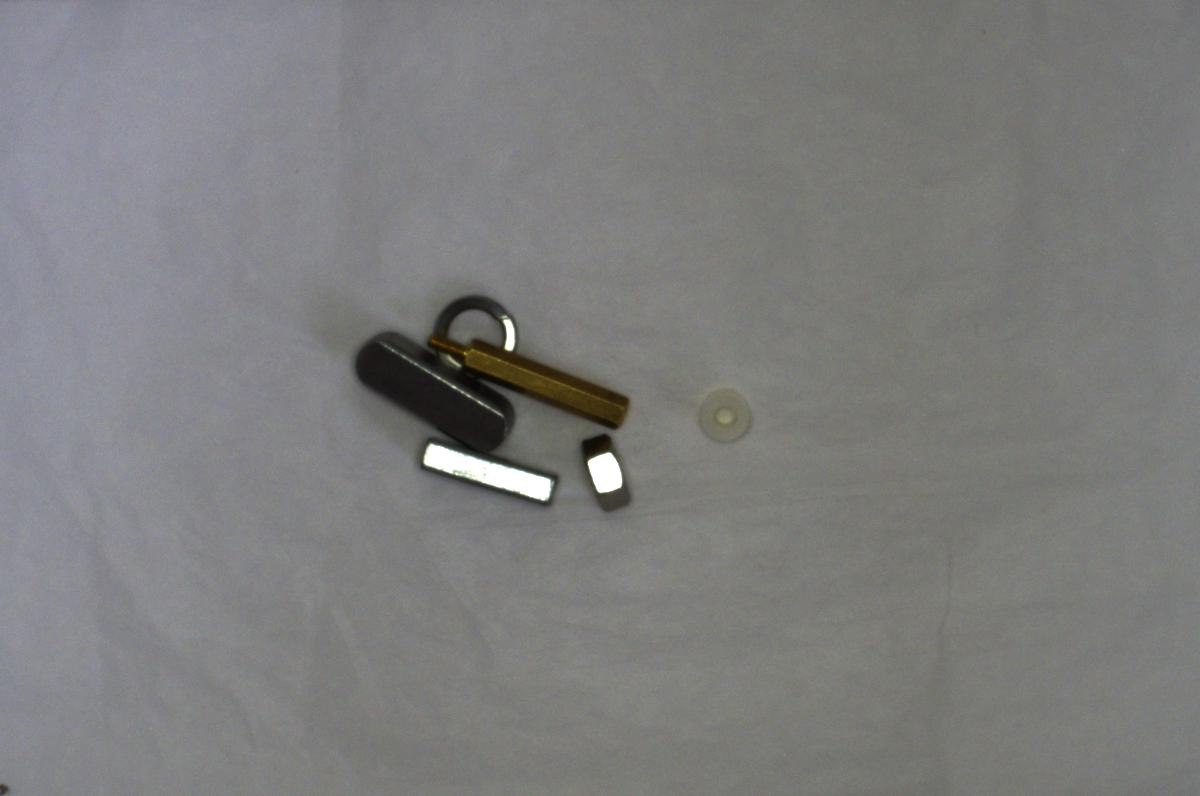Hexagon nut: (575, 432, 641, 522)
Hexagon pillar: (420, 327, 633, 432)
Keybar: (340, 328, 518, 456)
Plastic cushion pillar: (693, 383, 758, 448)
Rectangular nut: (412, 430, 562, 507)
Spring washer: (424, 293, 525, 362)
